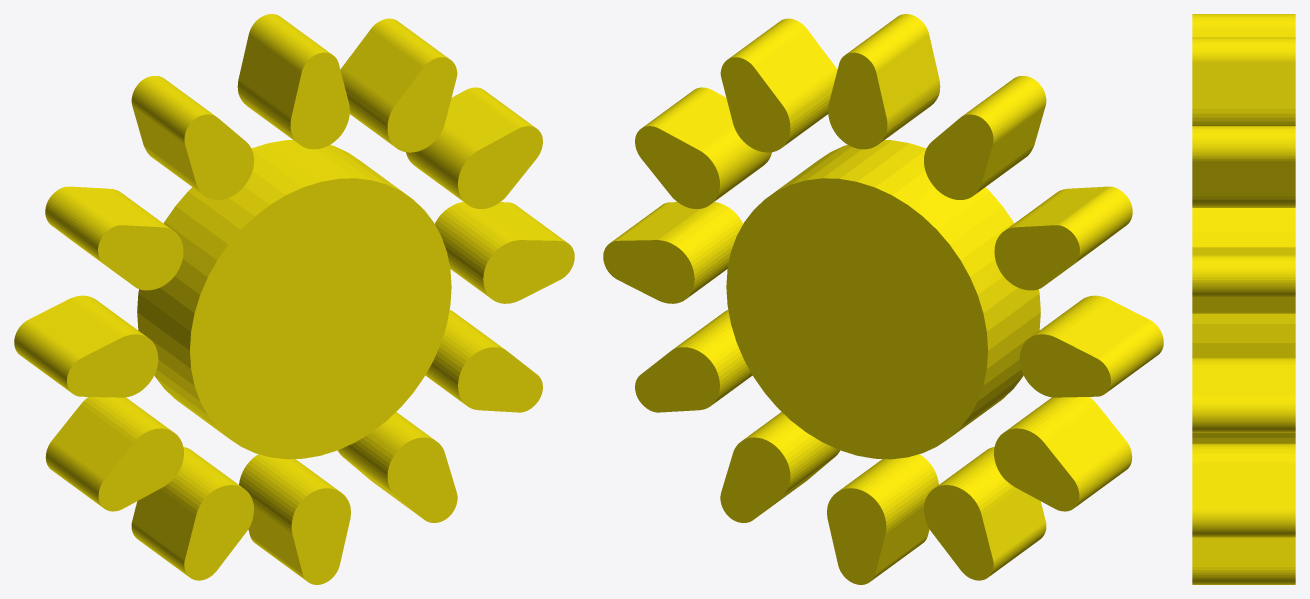
Rendered from sun.gltf.
3 views of the same model, side by side, from view 1: azimuth 30°, elevation 25°; view 2: azimuth 150°, elevation 25°; view 3: azimuth 270°, elevation 25° (orthographic). The views are drawn at different scales.
Parts seen in each view (by area): view 1: Curve.011; view 2: Curve.011; view 3: Curve.011.
Part boxes in pixels (<box>): Curve.011: <box>14,14,574,584</box>; Curve.011: <box>603,14,1163,584</box>; Curve.011: <box>1192,14,1295,584</box>.
Size of the model in its own units: 25.42 by 25.43 by 4.58.
